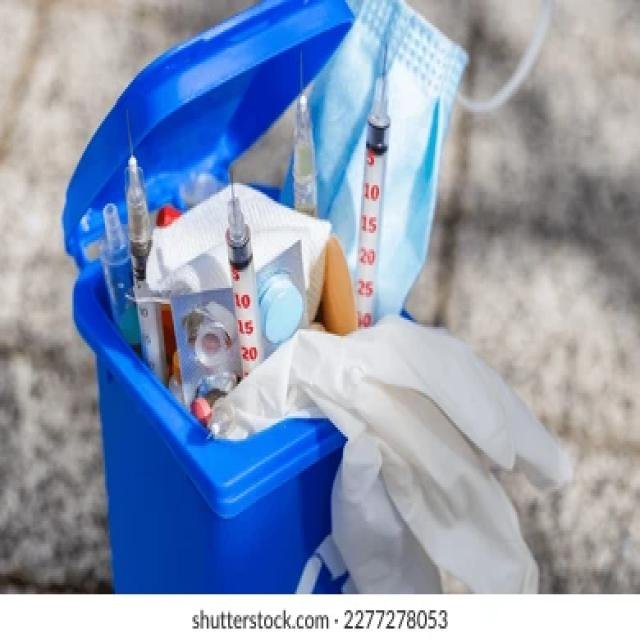Medical Waste: (34, 10, 562, 610)
